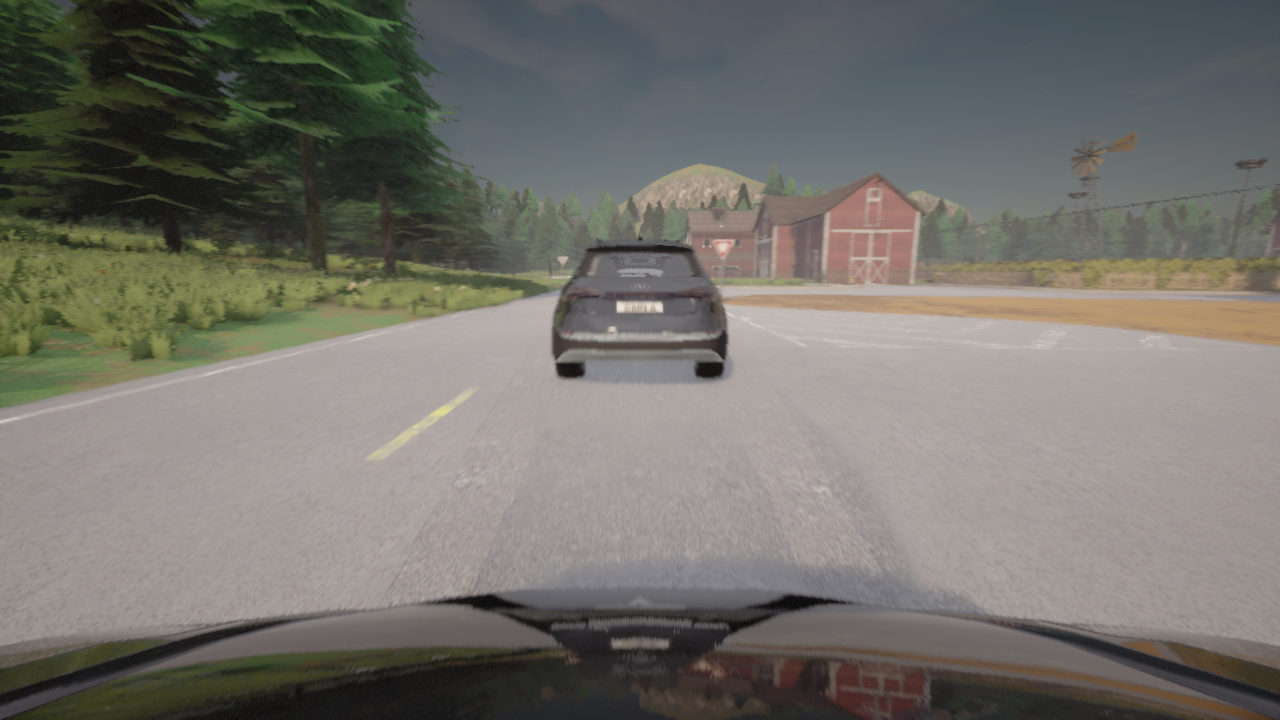cyclist: (0, 588, 1279, 719), (552, 235, 727, 378)
pedestrian: (723, 262, 727, 285), (1050, 271, 1055, 287), (848, 272, 852, 284), (820, 272, 824, 284)
